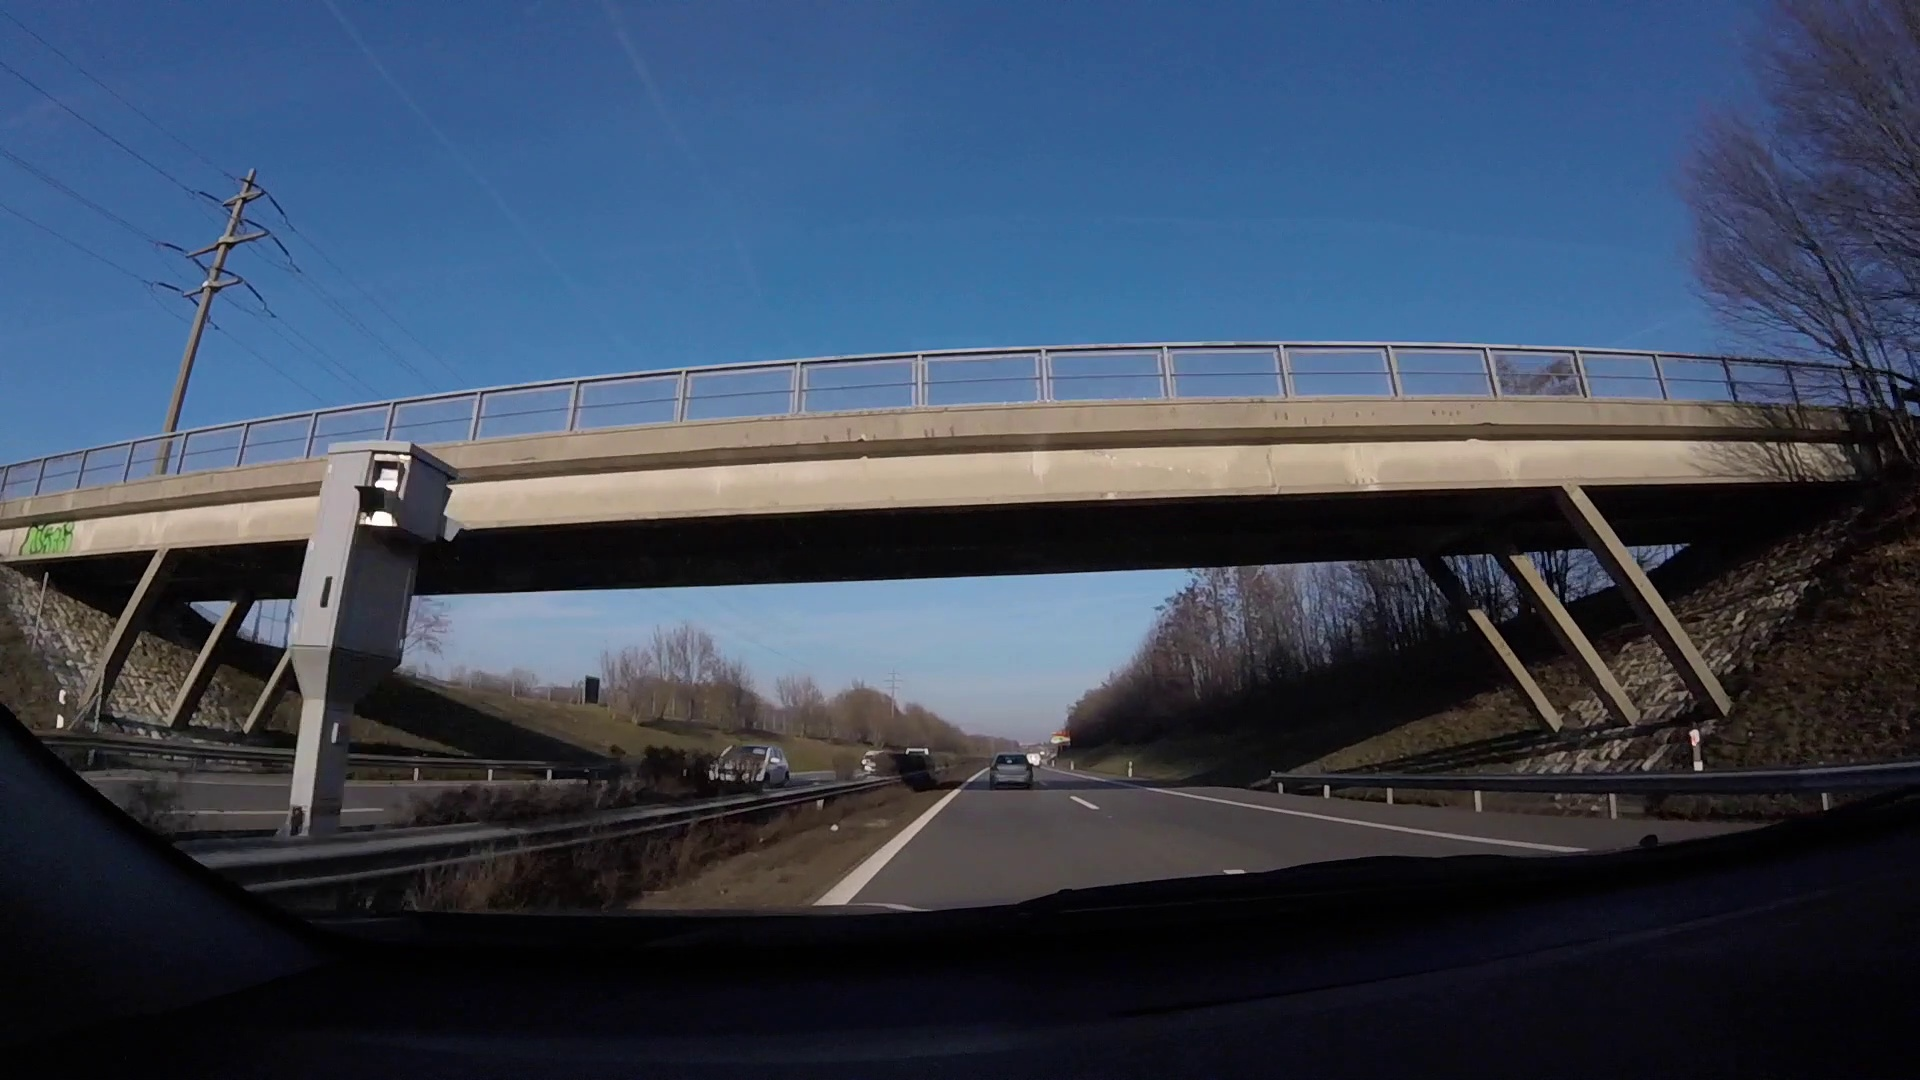radar: (281, 439, 462, 843)
